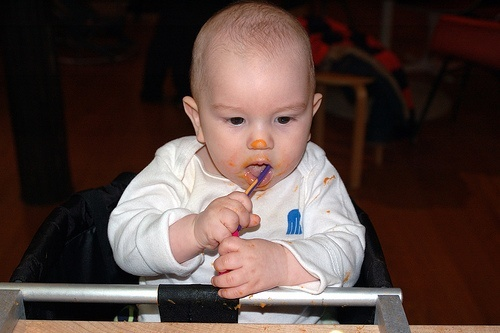head: (182, 3, 325, 191)
person: (111, 1, 371, 297)
